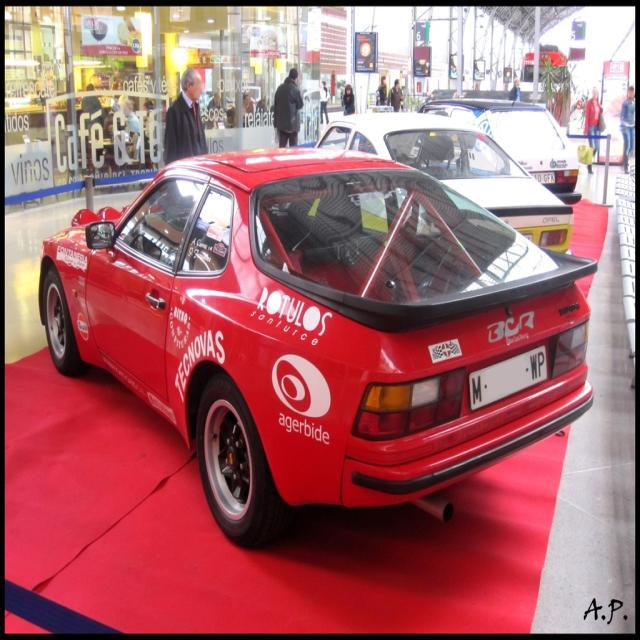car: (38, 145, 596, 546)
